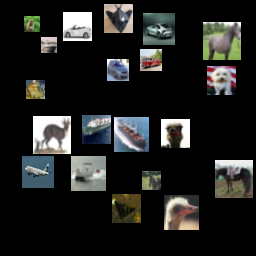airplane: (22, 156, 54, 188), (104, 4, 133, 33), (112, 194, 141, 223)
automobile: (143, 13, 175, 45), (63, 12, 92, 41), (107, 59, 129, 81)
bird: (164, 195, 199, 230), (161, 119, 190, 148)
cat: (26, 80, 45, 99), (24, 16, 40, 32)
deer: (33, 116, 71, 154)
dog: (207, 66, 236, 95)
ship: (71, 156, 106, 191), (114, 117, 149, 152), (82, 115, 111, 144), (41, 37, 57, 53)
